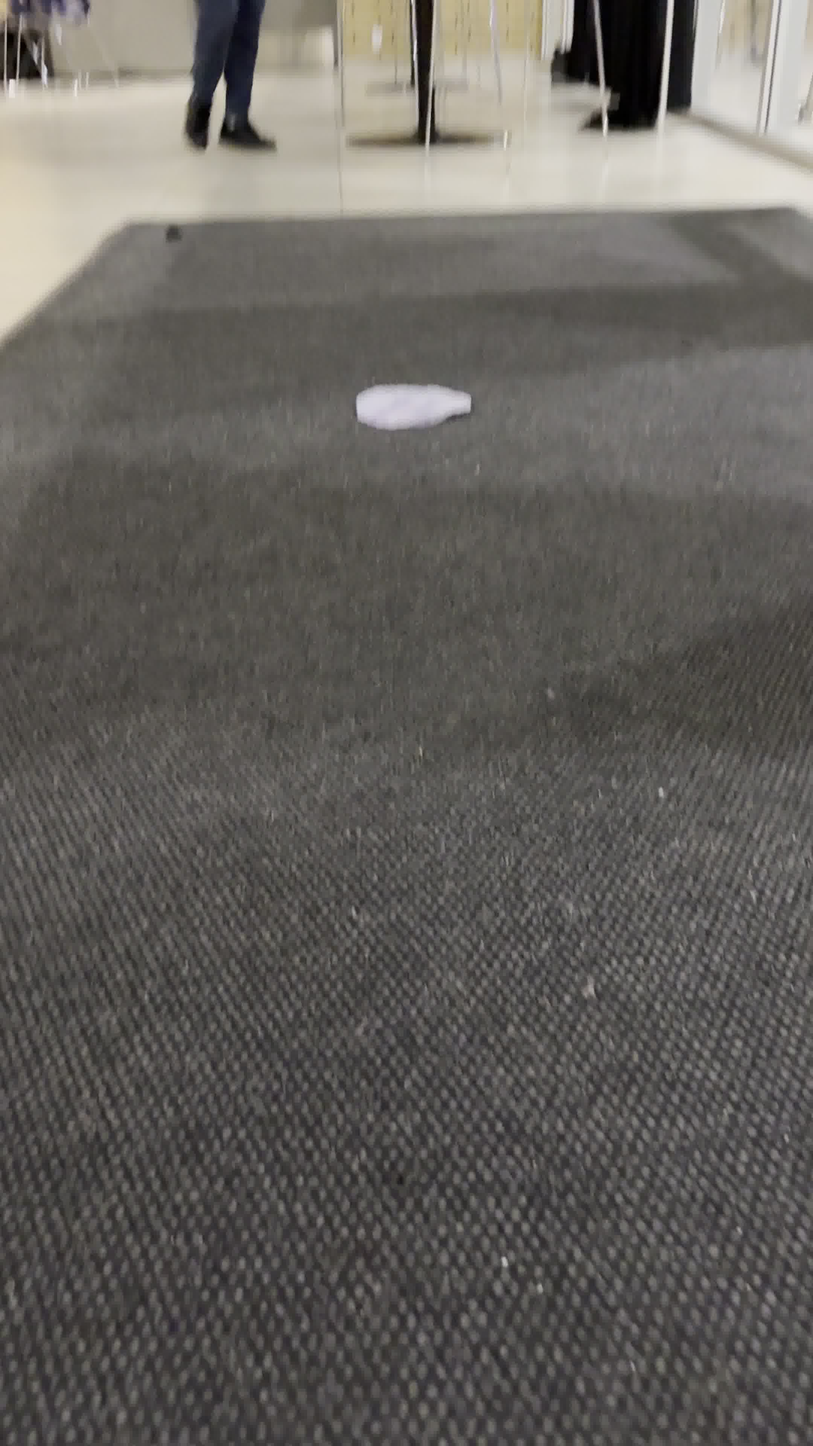Target: (352, 380, 478, 429)
